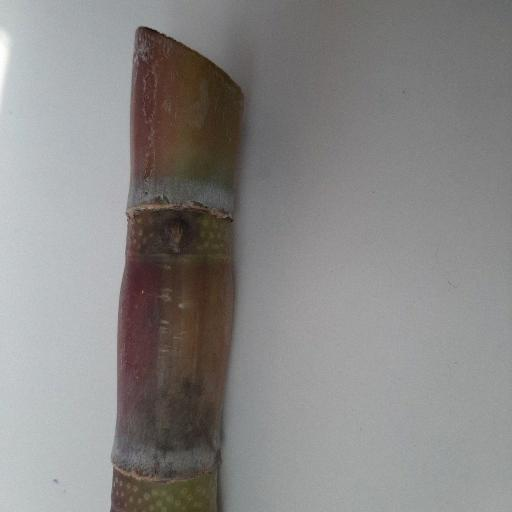Bud: (162, 213, 192, 252)
